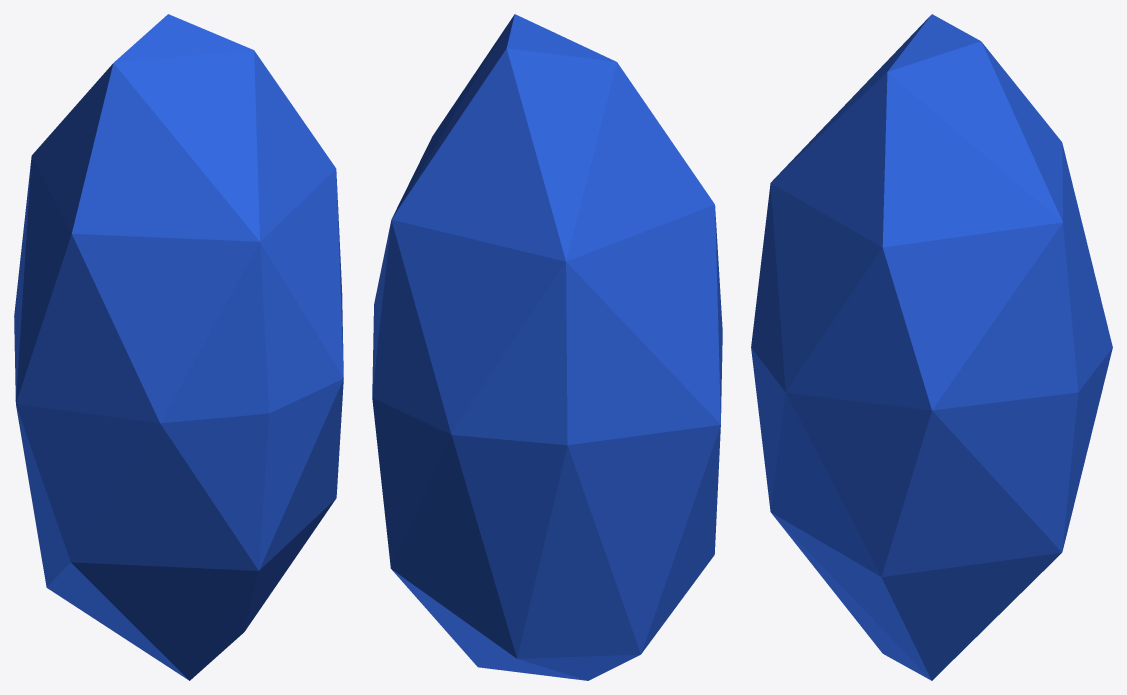
File: gardenCrystal.01.fbx
The picture shows the model from 3 angles, left to right: view 1: azimuth 30°, elevation 25°; view 2: azimuth 150°, elevation 25°; view 3: azimuth 270°, elevation 25°; orthographic projection. The views are drawn at different scales.
Parts seen in each view (by area): view 1: Icosphere; view 2: Icosphere; view 3: Icosphere.
Boxes of the visible parts, x1,y1,x2,y2 form: Icosphere: (14, 14, 343, 680); Icosphere: (372, 14, 722, 680); Icosphere: (751, 14, 1112, 680).
Size of the model in its own units: 209 by 382 by 200.
